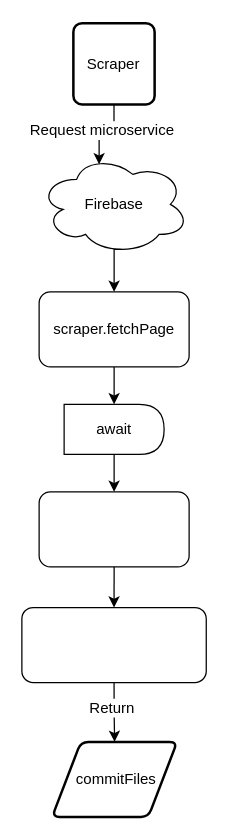
Image size: 229x839. Some labels were removed from this diagram. The centre of each missing label's shape, as x and y in pixels:
scrapeFileNames: the point at 113,529
scraper.fetchFilePages: the point at 113,644
